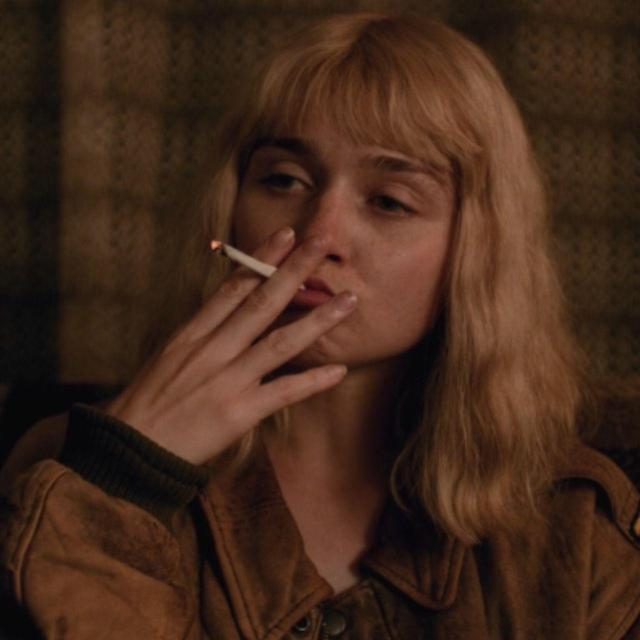cigarette: (198, 18, 558, 410), (202, 223, 304, 328)
